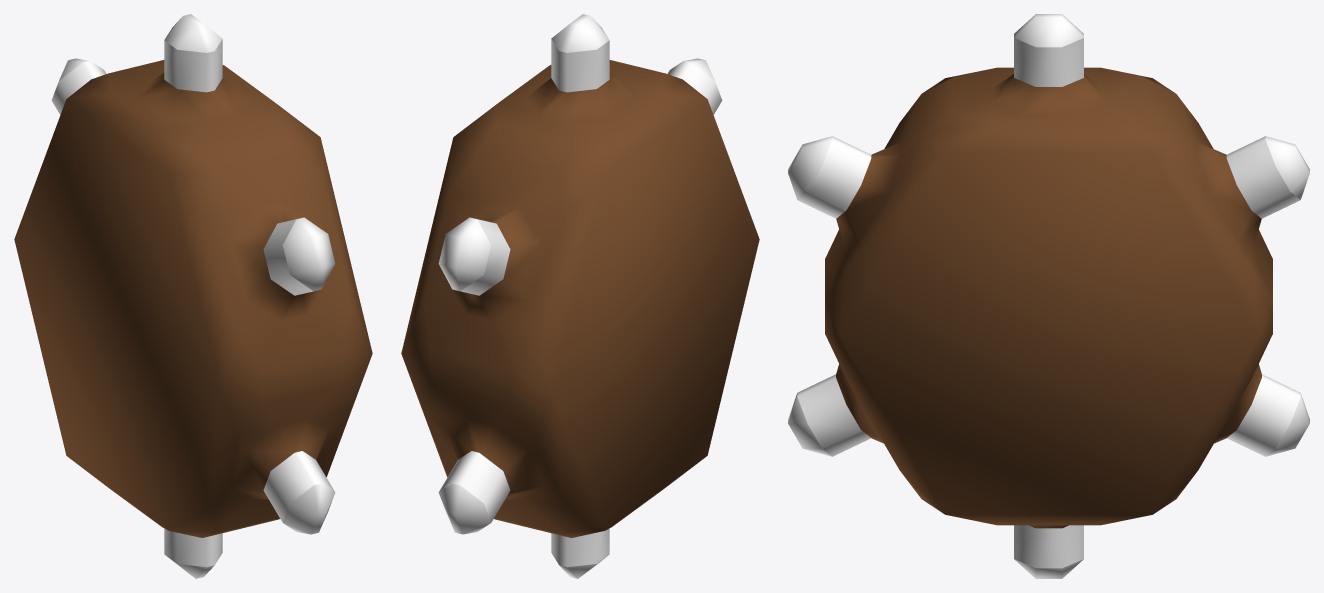
File: wheel.003.glb
The picture shows the model from 3 angles, left to right: view 1: azimuth 30°, elevation 25°; view 2: azimuth 150°, elevation 25°; view 3: azimuth 270°, elevation 25°; orthographic projection.
Parts seen in each view (by area): view 1: wheel.003; view 2: wheel.003; view 3: wheel.003.
Part boxes in pixels (x1,y1,x2,y2): wheel.003: [14, 14, 372, 578]; wheel.003: [401, 14, 759, 578]; wheel.003: [788, 14, 1309, 578].
Size of the model in its own units: 0.4031 by 1.41 by 1.18.
